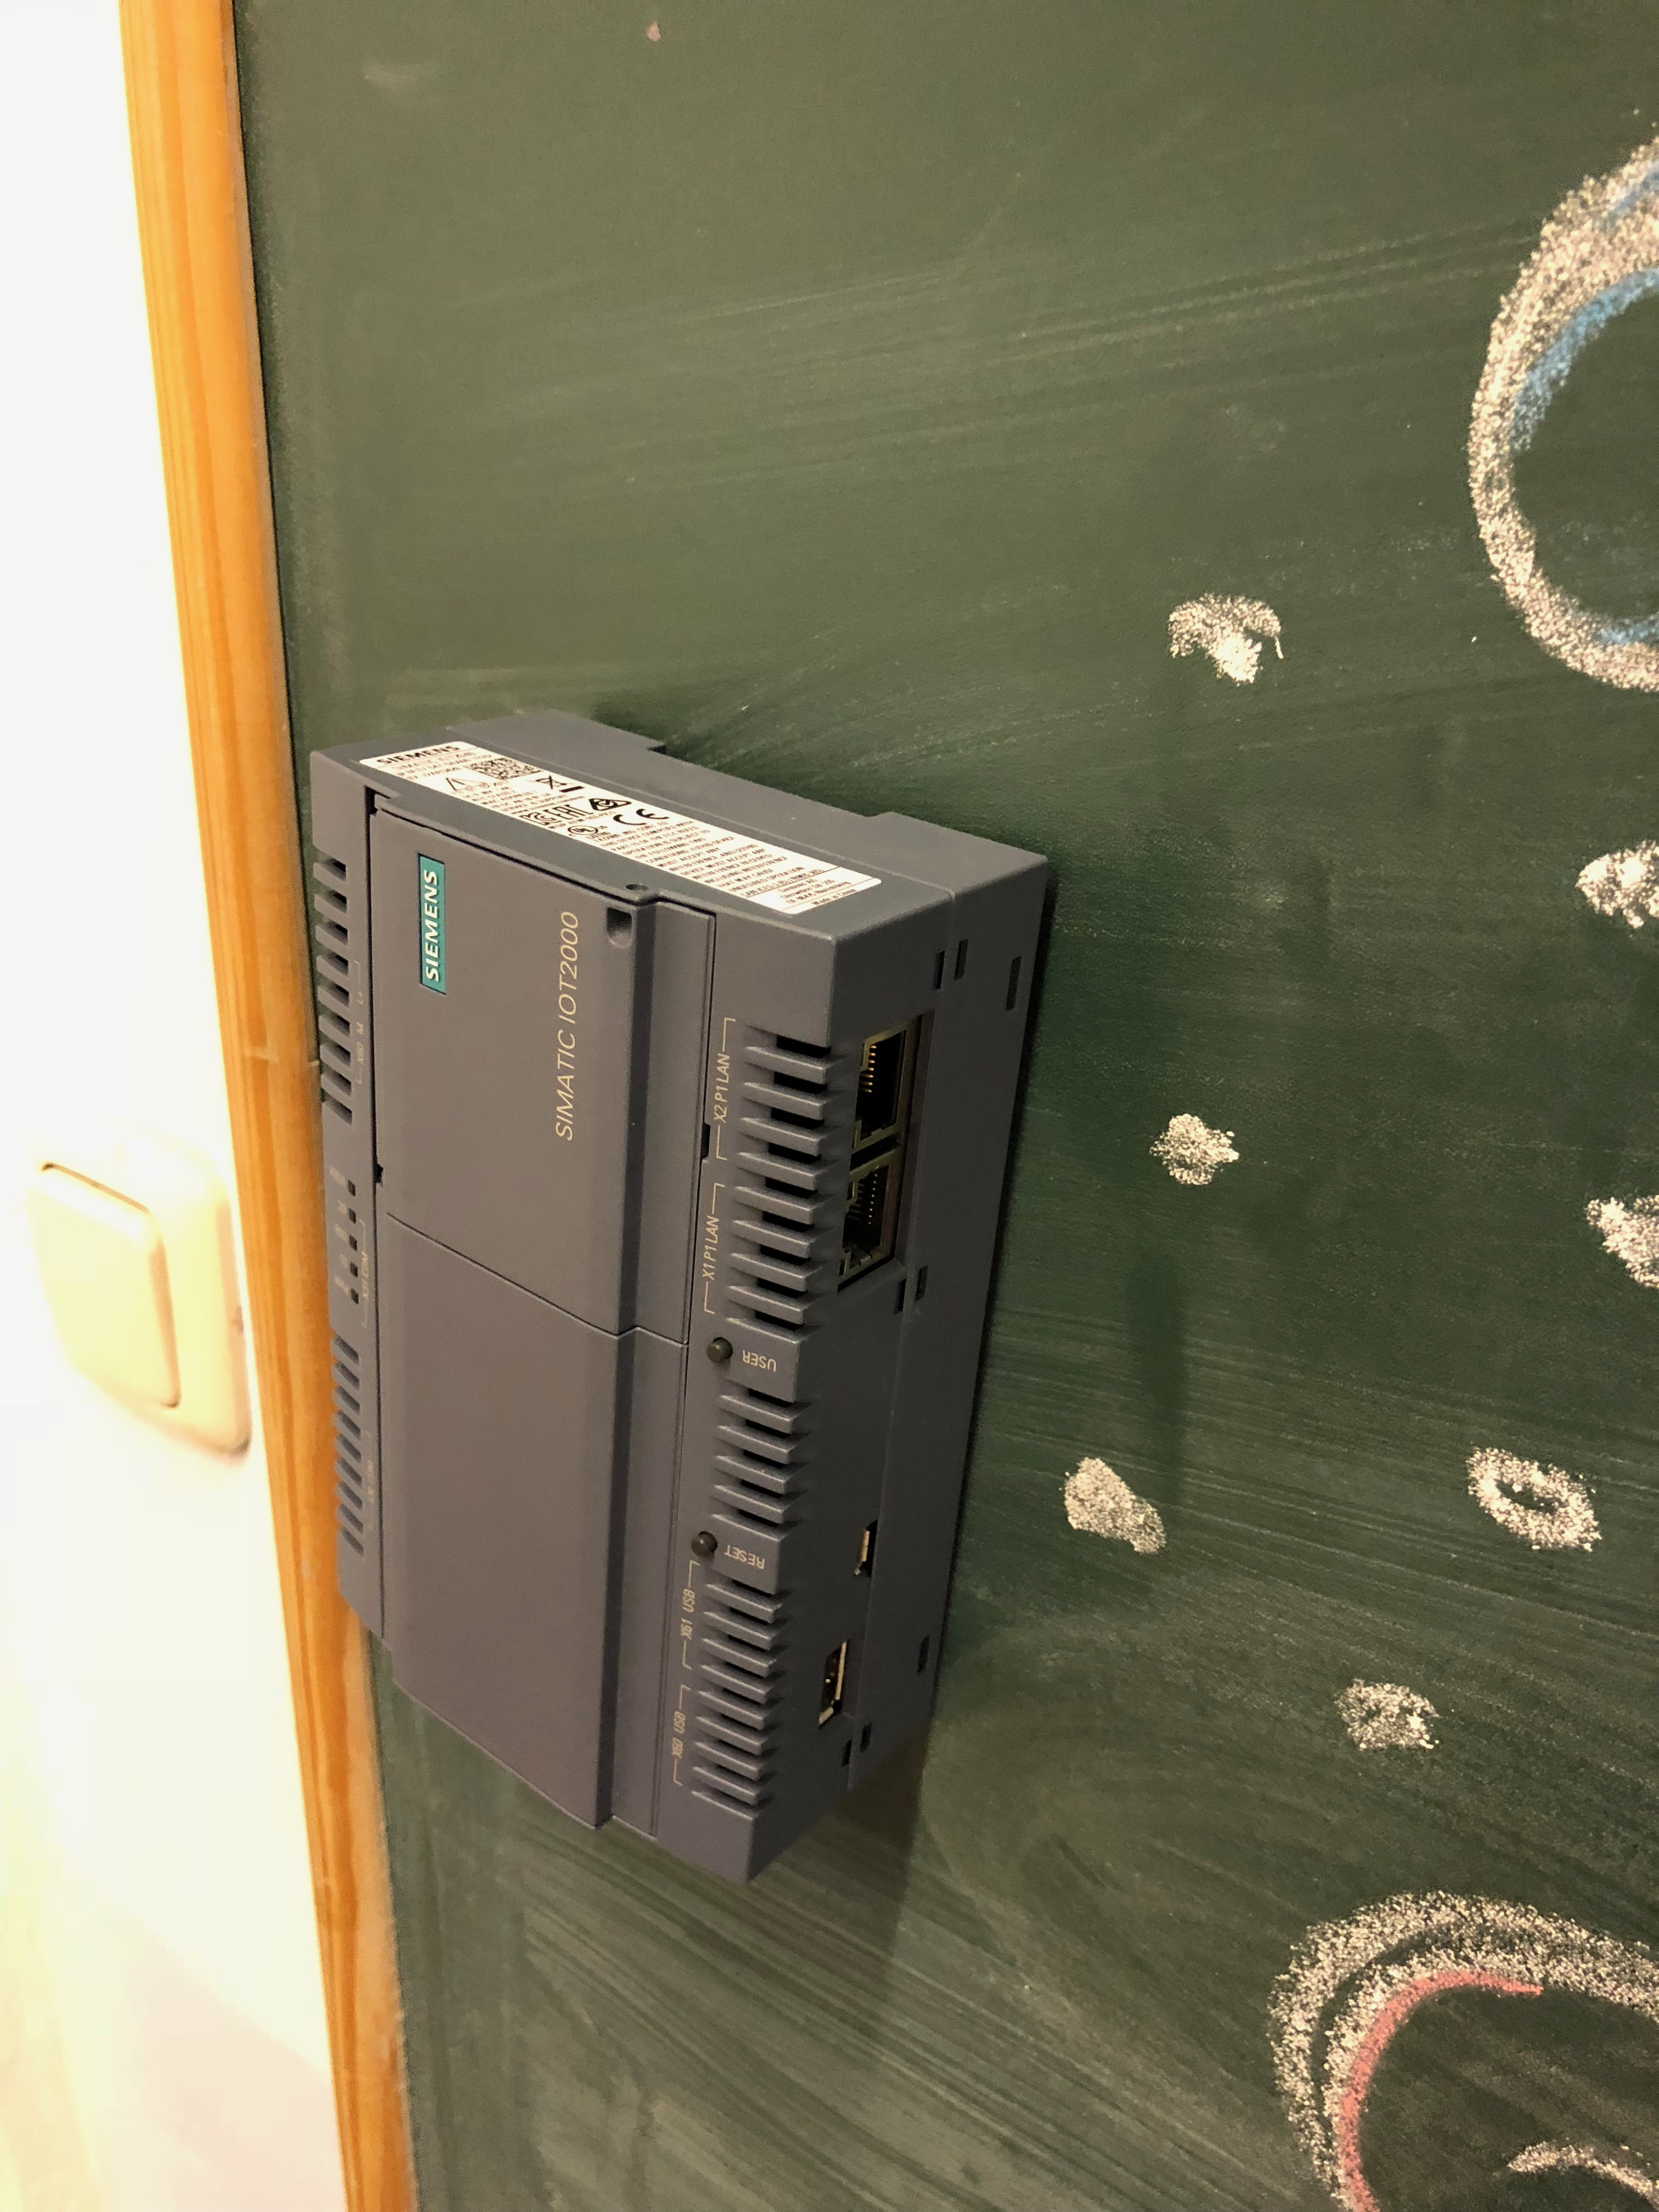device: (308, 705, 1051, 1888)
